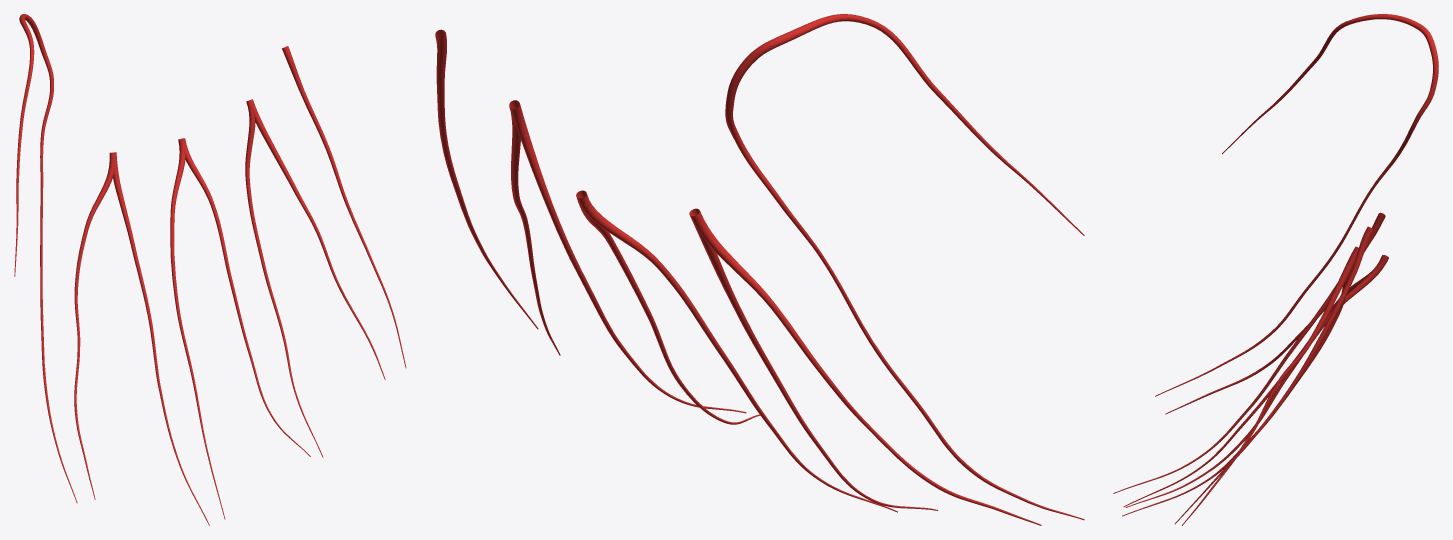
The model's file is circulatorio-dorsal-digital-arteries-of-hand-r.glb.
The picture shows the model from 3 angles, left to right: view 1: azimuth 30°, elevation 25°; view 2: azimuth 150°, elevation 25°; view 3: azimuth 270°, elevation 25°; orthographic projection. The views are drawn at different scales.
Parts seen in each view (by area): view 1: Dorsal digital arteries of hand.r; view 2: Dorsal digital arteries of hand.r; view 3: Dorsal digital arteries of hand.r.
Part boxes in pixels (x1=…): Dorsal digital arteries of hand.r: x1=14, y1=14, x2=406, y2=525; Dorsal digital arteries of hand.r: x1=435, y1=14, x2=1084, y2=525; Dorsal digital arteries of hand.r: x1=1113, y1=14, x2=1438, y2=525.
Size of the model in its own units: 0.1029 by 0.111 by 0.0723.
